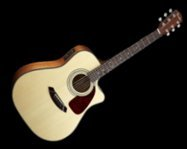guitar: (11, 7, 185, 142)
